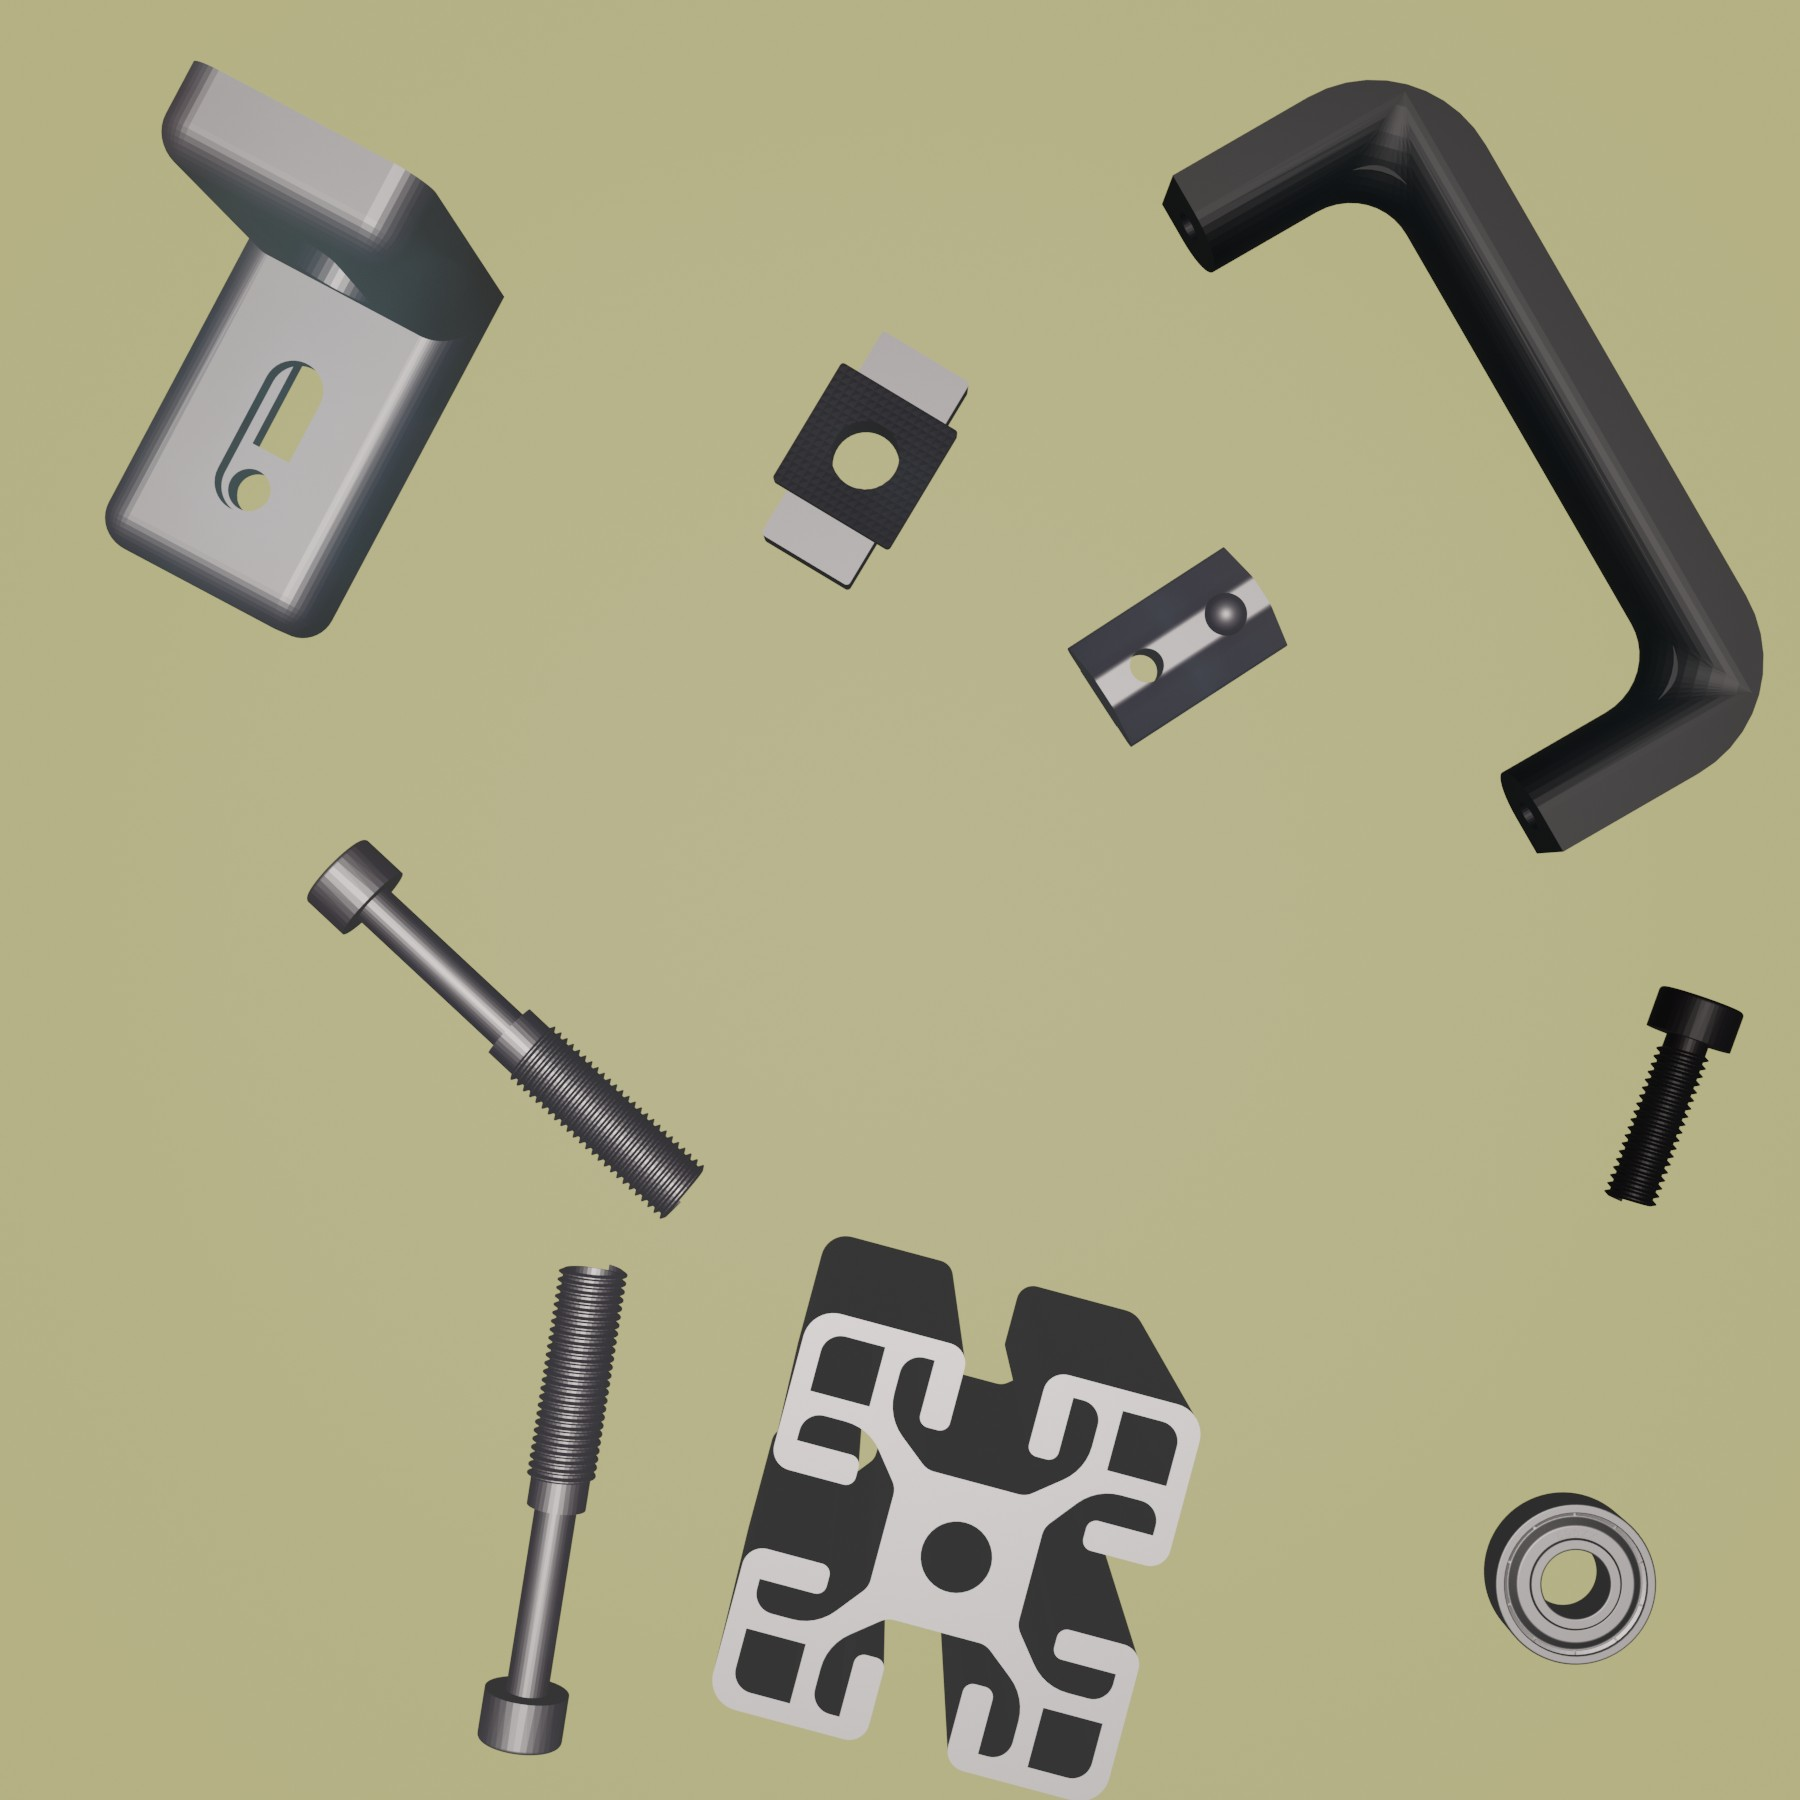Aluminium Extension: (709, 1231, 1203, 1800)
Ball Bearing: (1479, 1488, 1662, 1670)
Multiwinkel: (102, 54, 508, 641)
Pull Handle: (1159, 77, 1765, 855)
Shoulder Socket Head Cap Screw: (302, 836, 705, 1220), (475, 1258, 631, 1759)
Socket Head Cap Screw: (1601, 982, 1744, 1212)
T Nut Square: (758, 326, 974, 592)
T Spring Nut: (1065, 542, 1291, 748)
